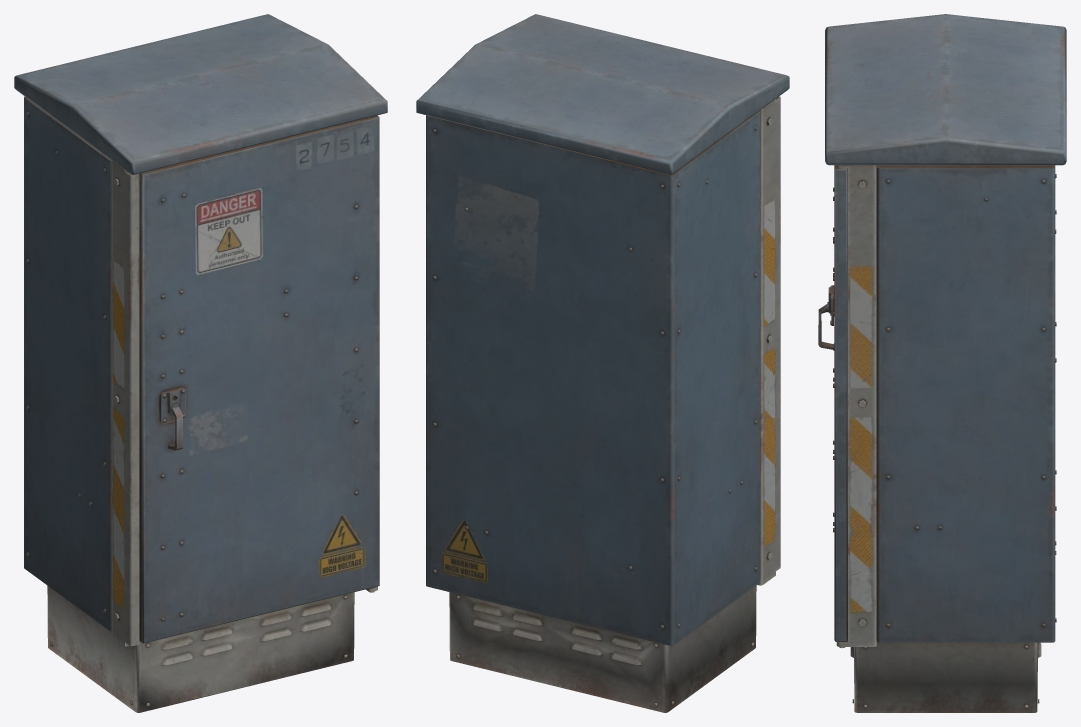
File: utility_box_01.glb
The picture shows the model from 3 angles, left to right: view 1: azimuth 30°, elevation 25°; view 2: azimuth 150°, elevation 25°; view 3: azimuth 270°, elevation 25°; orthographic projection.
Visible parts, largest first — view 1: utility_box_01_box; view 2: utility_box_01_box; view 3: utility_box_01_box.
Boxes of the visible parts, x1,y1,x2,y2 form: utility_box_01_box: (14,14,387,712); utility_box_01_box: (416,14,789,712); utility_box_01_box: (818,14,1066,712).
Bounding box in the file's own units: 0.52 × 1.12 × 0.432.
1 material, 1 textured.
